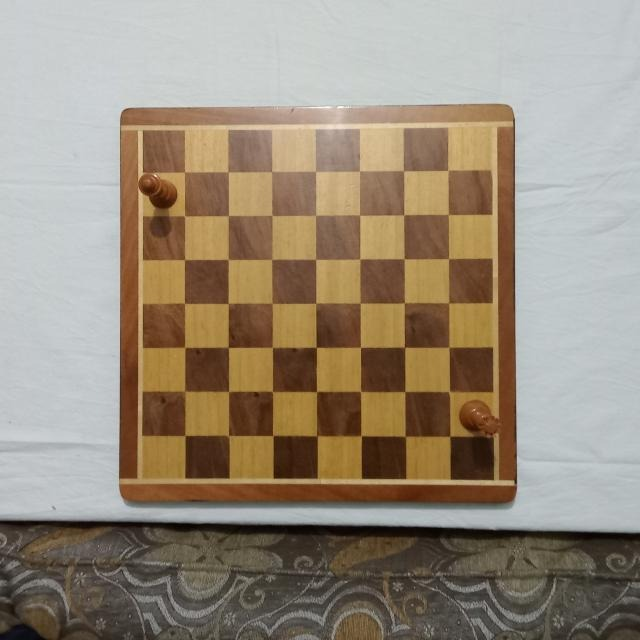white-king: (139, 171, 179, 213)
white-queen: (458, 398, 503, 439)
